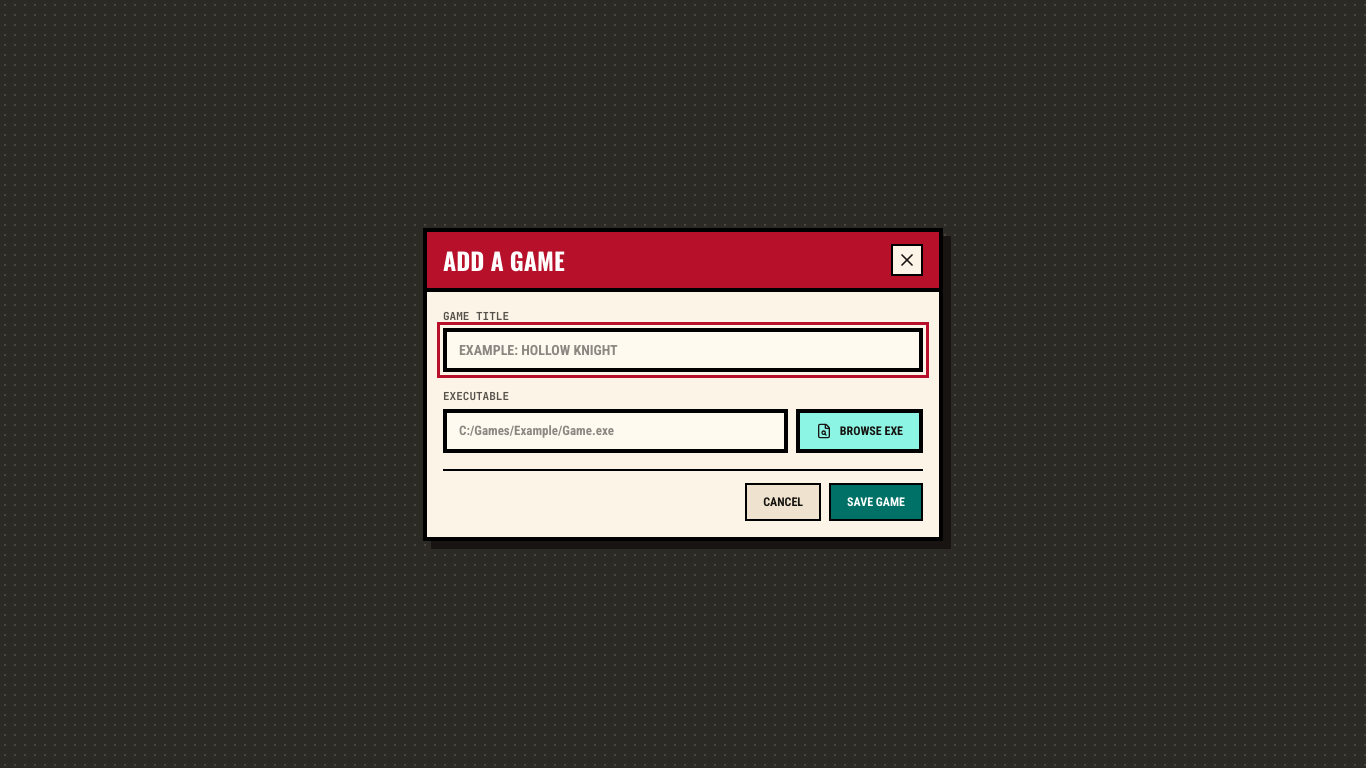
Test: AddGameDialog executable picker › keeps manual entry available when the desktop dialog is cancelled
Click the button "Browse EXE".
click(859, 430)  # box [796,408,923,452]
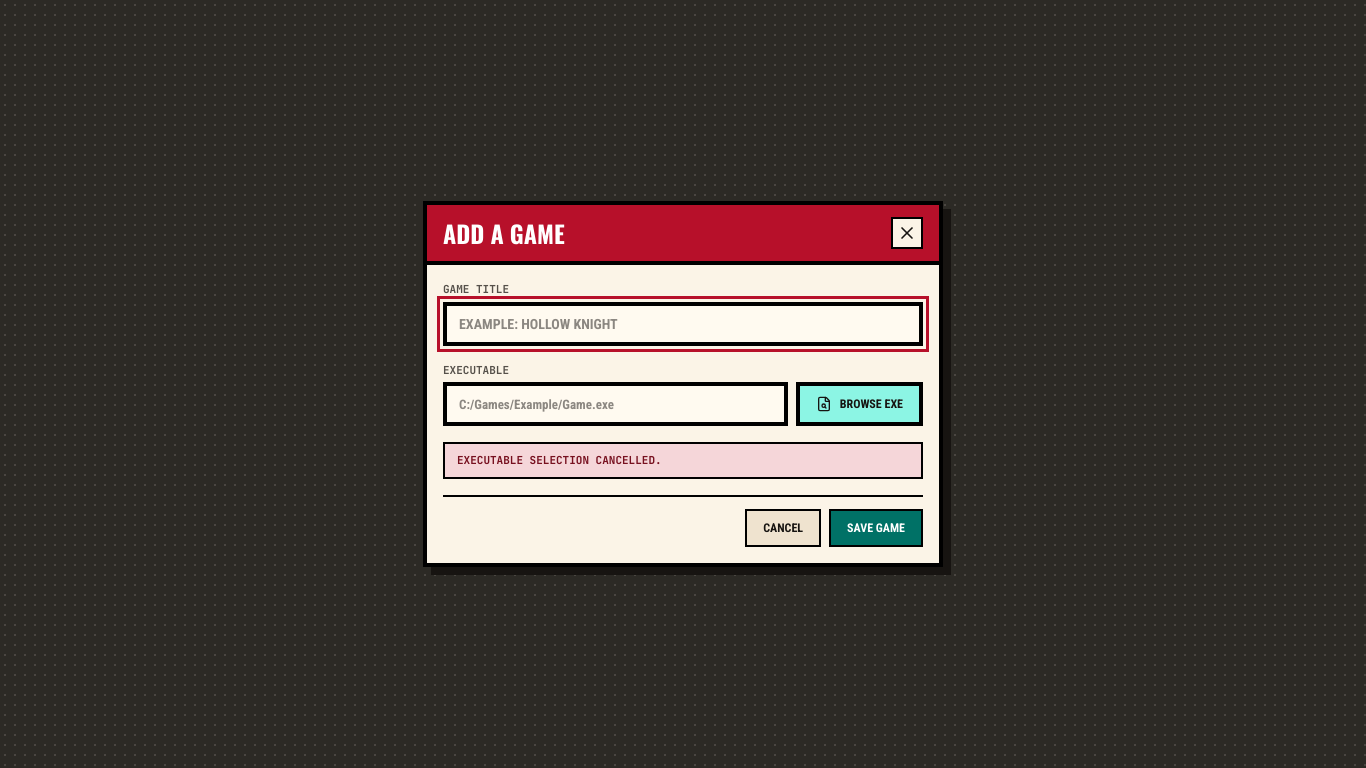
Expected: the field labelled "Executable Browse EXE" is empty, [443,382,788,426]
Now the text "Executable selection cancelled." is shown, box [443,442,923,479]
